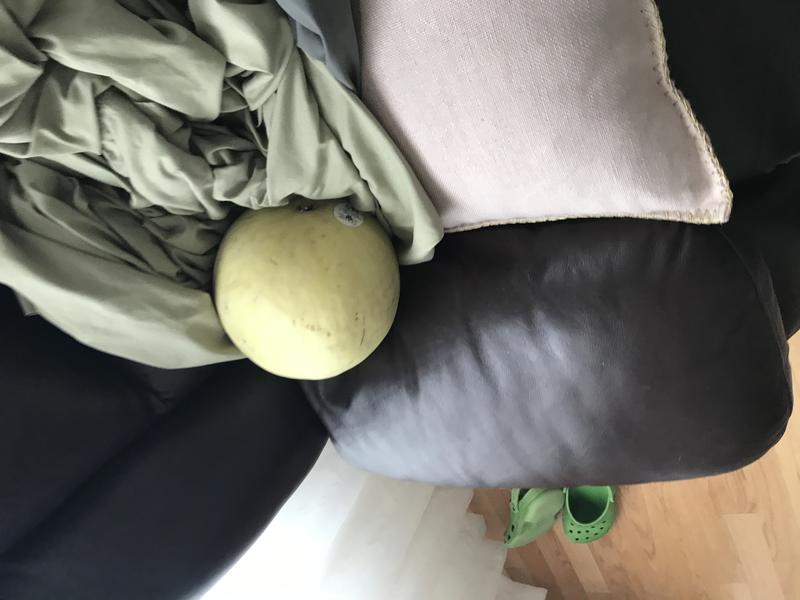honeydew: (199, 187, 404, 383)
